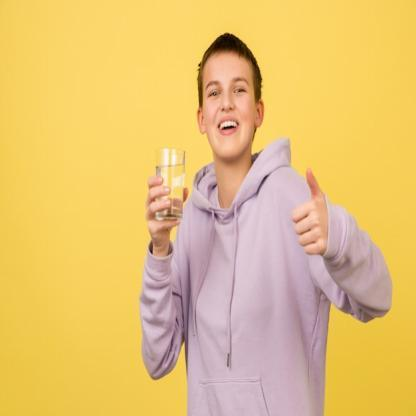thumb_up: (289, 165, 332, 262)
